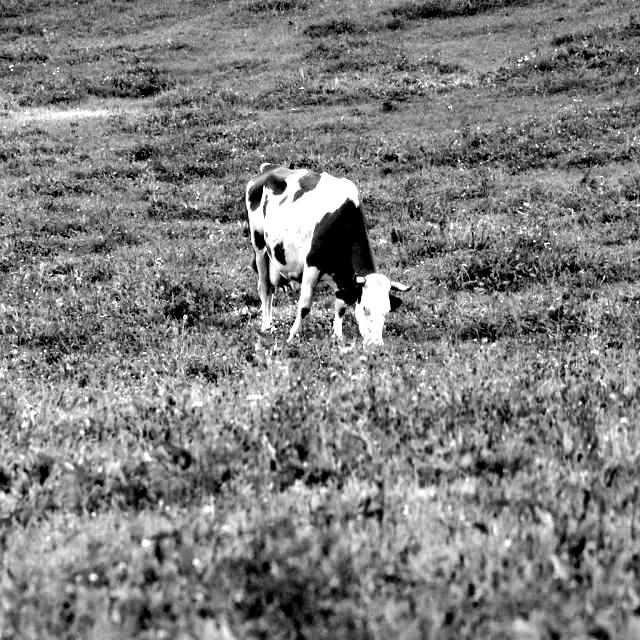COW: (245, 164, 408, 344)
